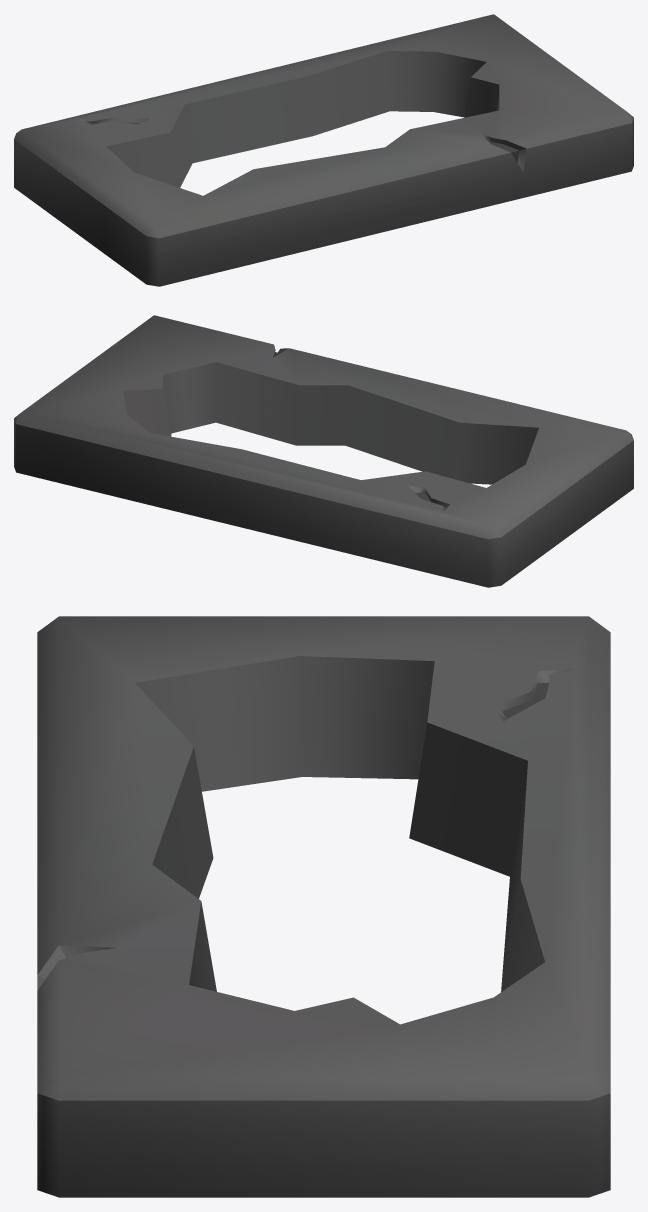
The model's file is Grave_1_3.obj.
3 renders of one model, top to bottom at view 1: azimuth 30°, elevation 25°; view 2: azimuth 150°, elevation 25°; view 3: azimuth 270°, elevation 25°, orthographic. The views are drawn at different scales.
Visible parts, largest first — view 1: Grave_1_3; view 2: Grave_1_3; view 3: Grave_1_3.
Part boxes in pixels (bbox=[...]): Grave_1_3: bbox=[14, 14, 633, 286]; Grave_1_3: bbox=[14, 315, 633, 587]; Grave_1_3: bbox=[37, 616, 610, 1197].
Size of the model in its own units: 1.69 by 0.1866 by 0.8601.
